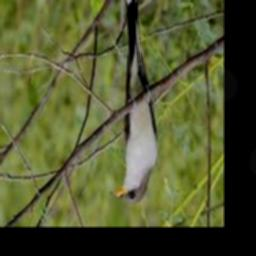Cuckoo: (110, 0, 158, 203)
